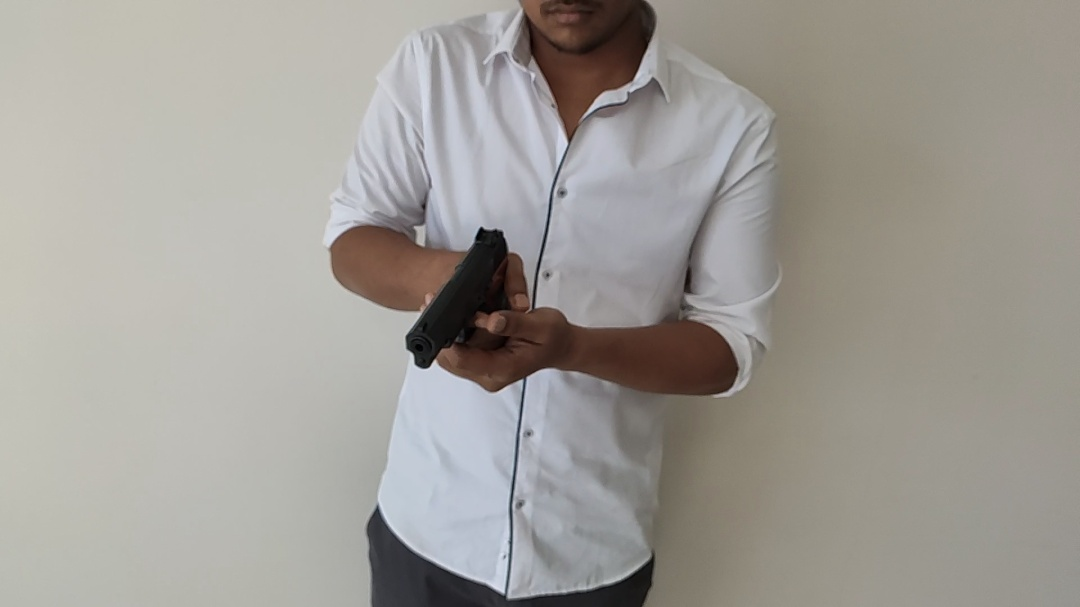gun: (209, 23, 793, 450)
